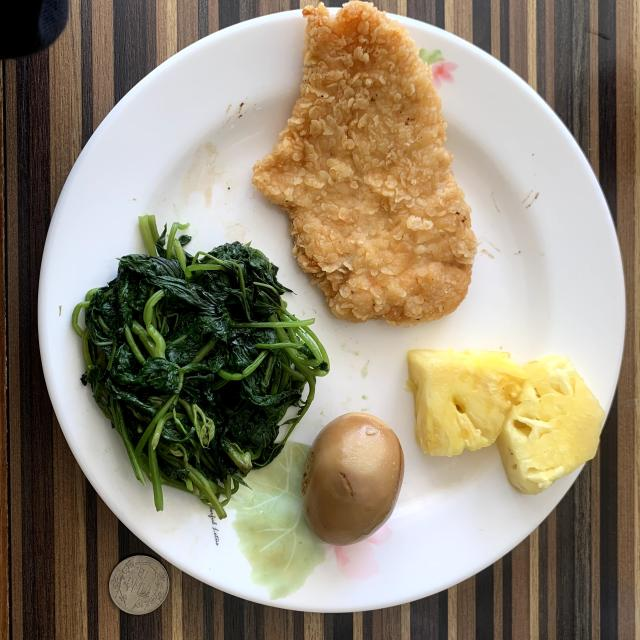coin: (109, 555, 169, 615)
fried chicken cutlet: (252, 1, 476, 326)
pineapple: (408, 349, 605, 494)
soy egg: (301, 412, 404, 545)
sweet potato leaves: (71, 216, 329, 519)
